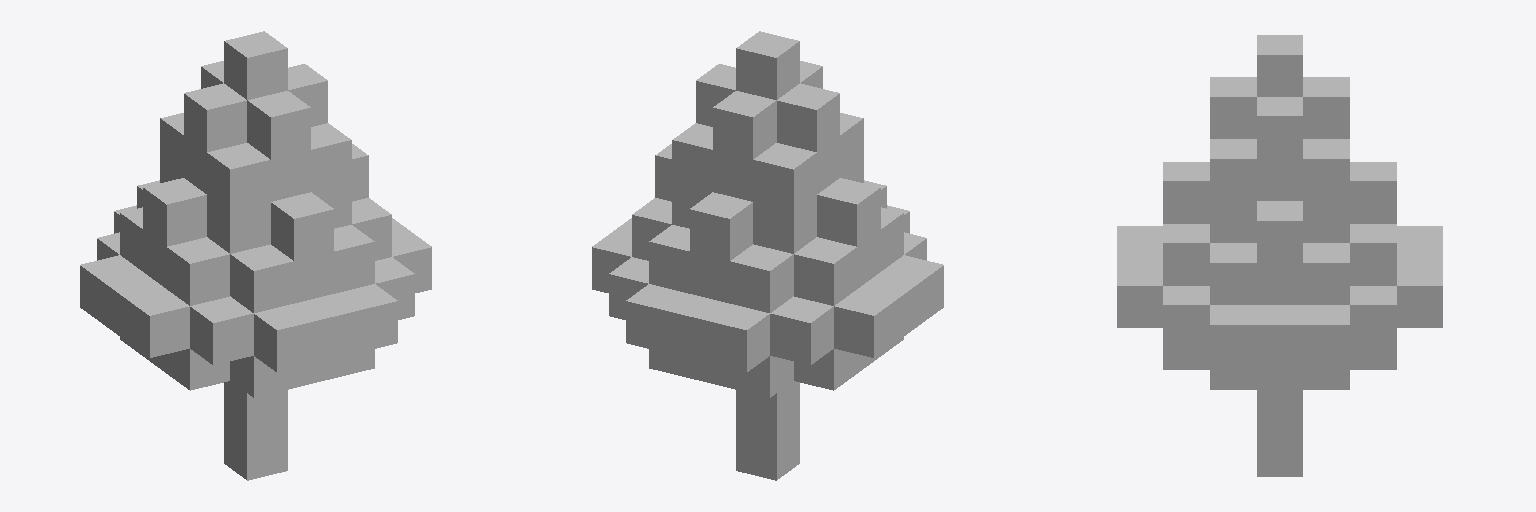
File: tree01.obj
3 views of the same model, side by side, from view 1: azimuth 30°, elevation 25°; view 2: azimuth 150°, elevation 25°; view 3: azimuth 270°, elevation 25° (orthographic).
Parts seen in each view (by area): view 1: object 1; view 2: object 1; view 3: object 1.
Boxes of the visible parts, <box> form: object 1: <box>80,31,431,480</box>; object 1: <box>592,31,943,480</box>; object 1: <box>1117,35,1442,476</box>.
Bounding box in the file's own units: 0.7 × 1 × 0.7.